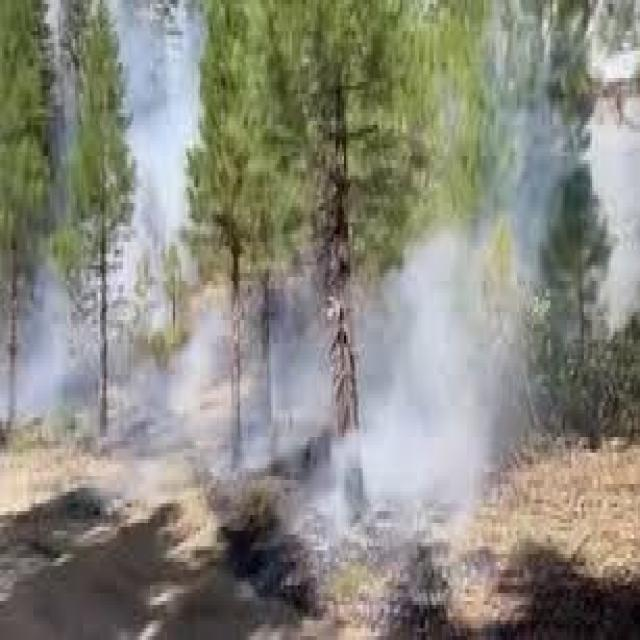Smoke: (360, 299, 510, 575), (131, 2, 189, 222)
